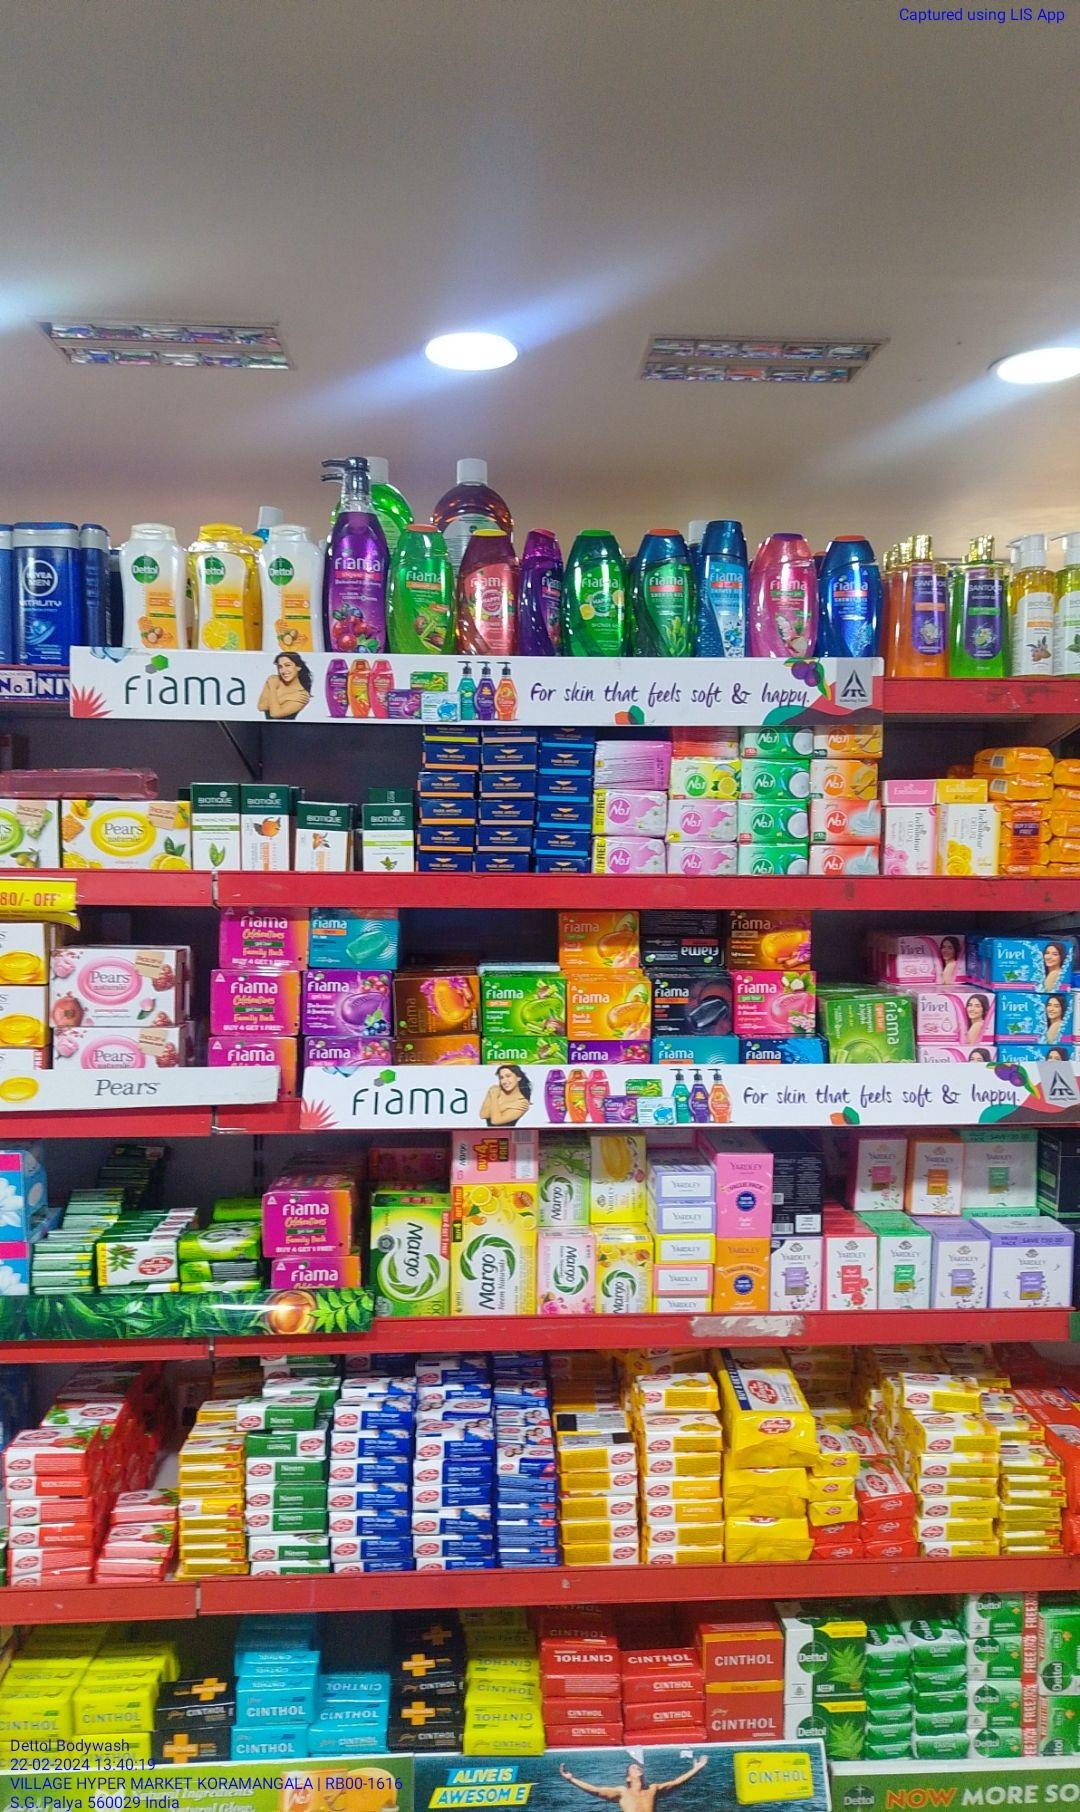Dettol_Bodywash_Refresh: (189, 522, 257, 650)
Dettol_Nourish_Body_Wash_250ML: (258, 524, 325, 652), (118, 522, 181, 648)
Fiama_Shower_Gel_Lemongrass_and_Jojoba_250ML: (384, 515, 455, 655)
Fiama_Shower_Gel_Patchouli_and_Macadamia_250ML: (746, 529, 820, 657)
